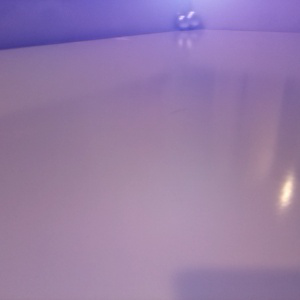alive_ball: (185, 11, 201, 29), (176, 14, 190, 30)
